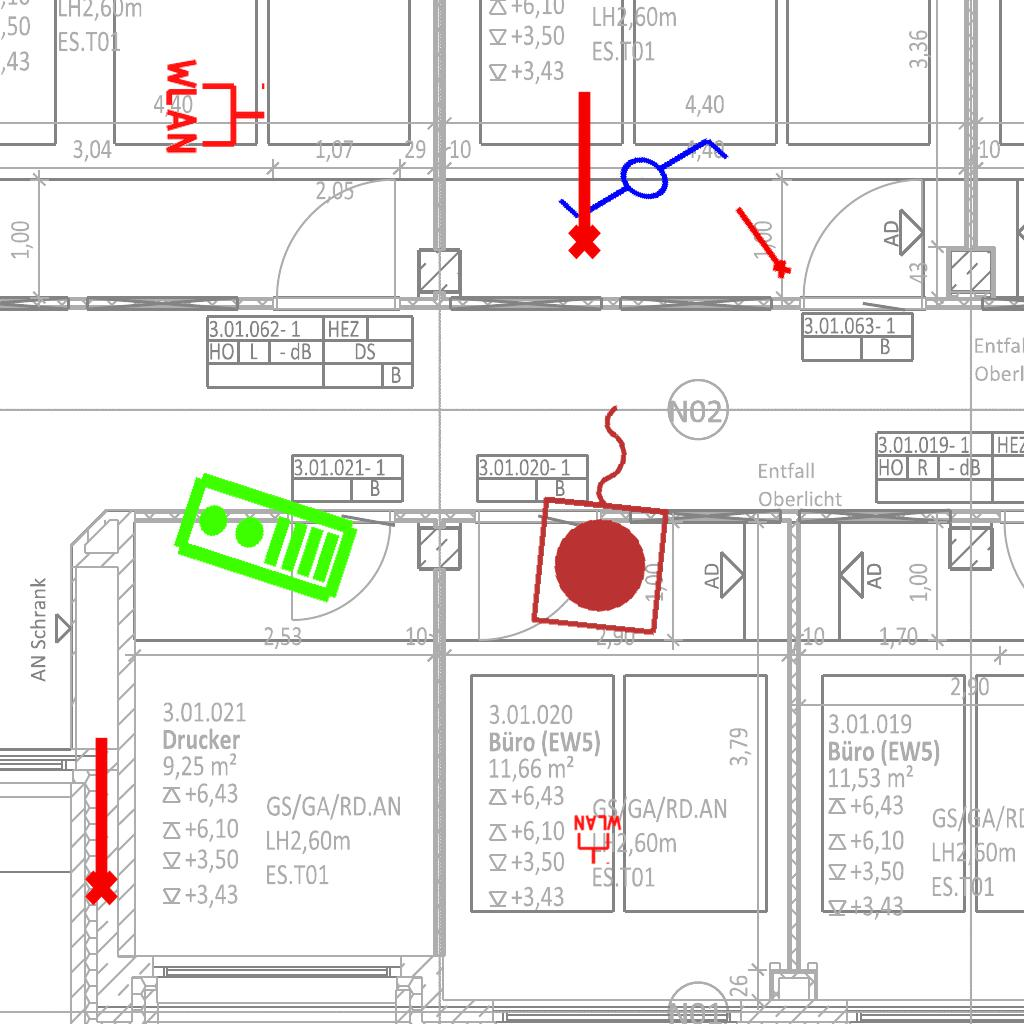ASR_Ansaugoeffnung: (76, 732, 122, 908), (559, 86, 605, 262), (725, 200, 797, 285)
Gegensprechanlage_mit_Video: (166, 466, 363, 612)
WLAN: (164, 54, 269, 158), (572, 814, 624, 866)
Wechselschalter: (547, 84, 754, 284)
Zugtaster: (522, 387, 692, 645)
